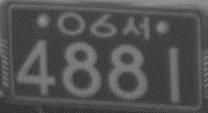0: (56, 11, 86, 37)
1: (158, 45, 188, 103)
4: (15, 38, 56, 96)
6: (89, 12, 118, 38)
8: (61, 41, 103, 99), (108, 42, 149, 101)
서: (122, 14, 151, 41)
